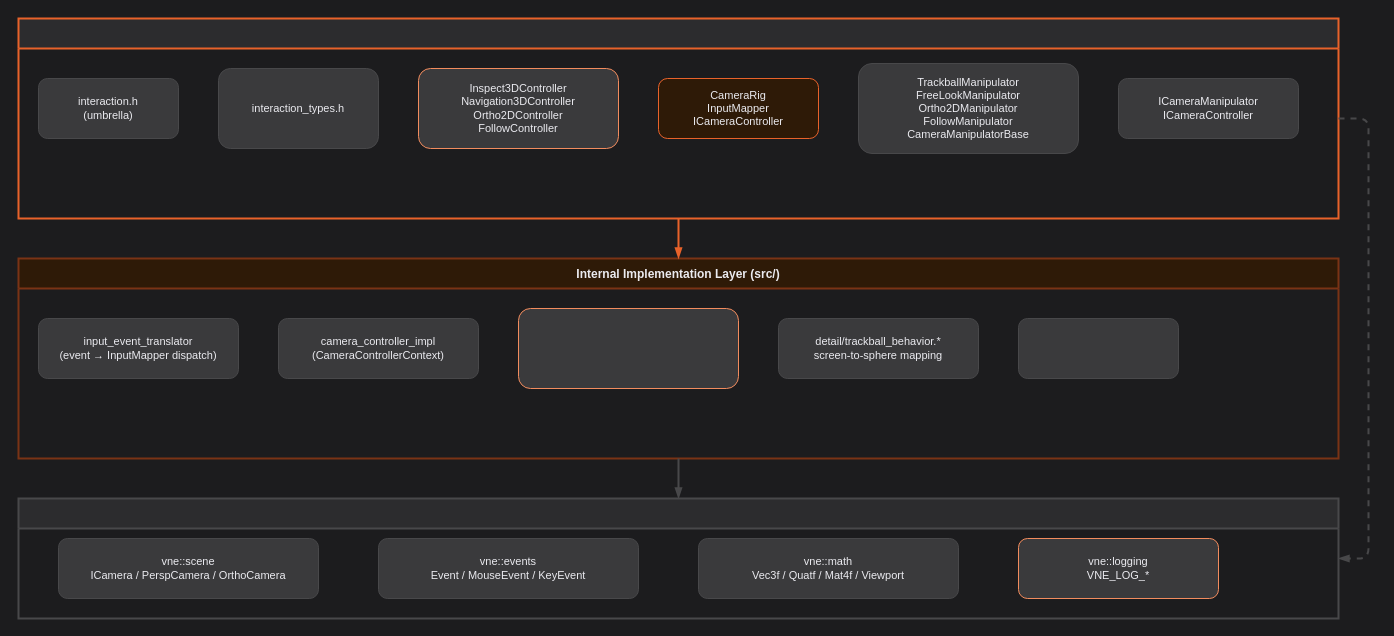
Image size: 1394x636. Some labels were removed from this diagram. Each missing label, with the box of its shape:
External Dependencies: (17, 497, 1339, 619)
interaction_utils: (1018, 318, 1178, 378)
Public API Layer: (17, 17, 1339, 219)
trackball_manipulator.cpp quaternion orbit · inertia · easing: (518, 308, 738, 388)
